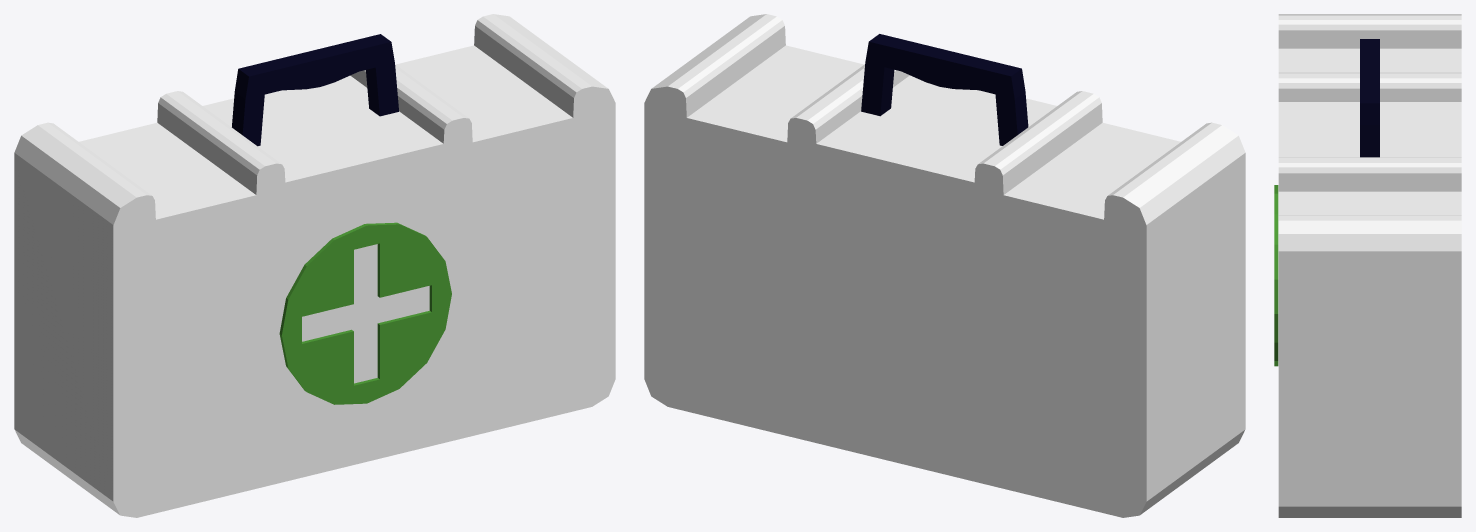
Rendered from MidKit_01.fbx.
3 views of the same model, side by side, from view 1: azimuth 30°, elevation 25°; view 2: azimuth 150°, elevation 25°; view 3: azimuth 270°, elevation 25° (orthographic). The views are drawn at different scales.
Parts seen in each view (by area): view 1: MidKit_01; view 2: MidKit_01; view 3: MidKit_01.
Boxes of the visible parts, left/top/right/bottom form: MidKit_01: left=14, top=14, right=615, bottom=517; MidKit_01: left=644, top=14, right=1245, bottom=517; MidKit_01: left=1274, top=14, right=1461, bottom=517.
Size of the model in its own units: 83.43 by 58.92 by 29.21.
